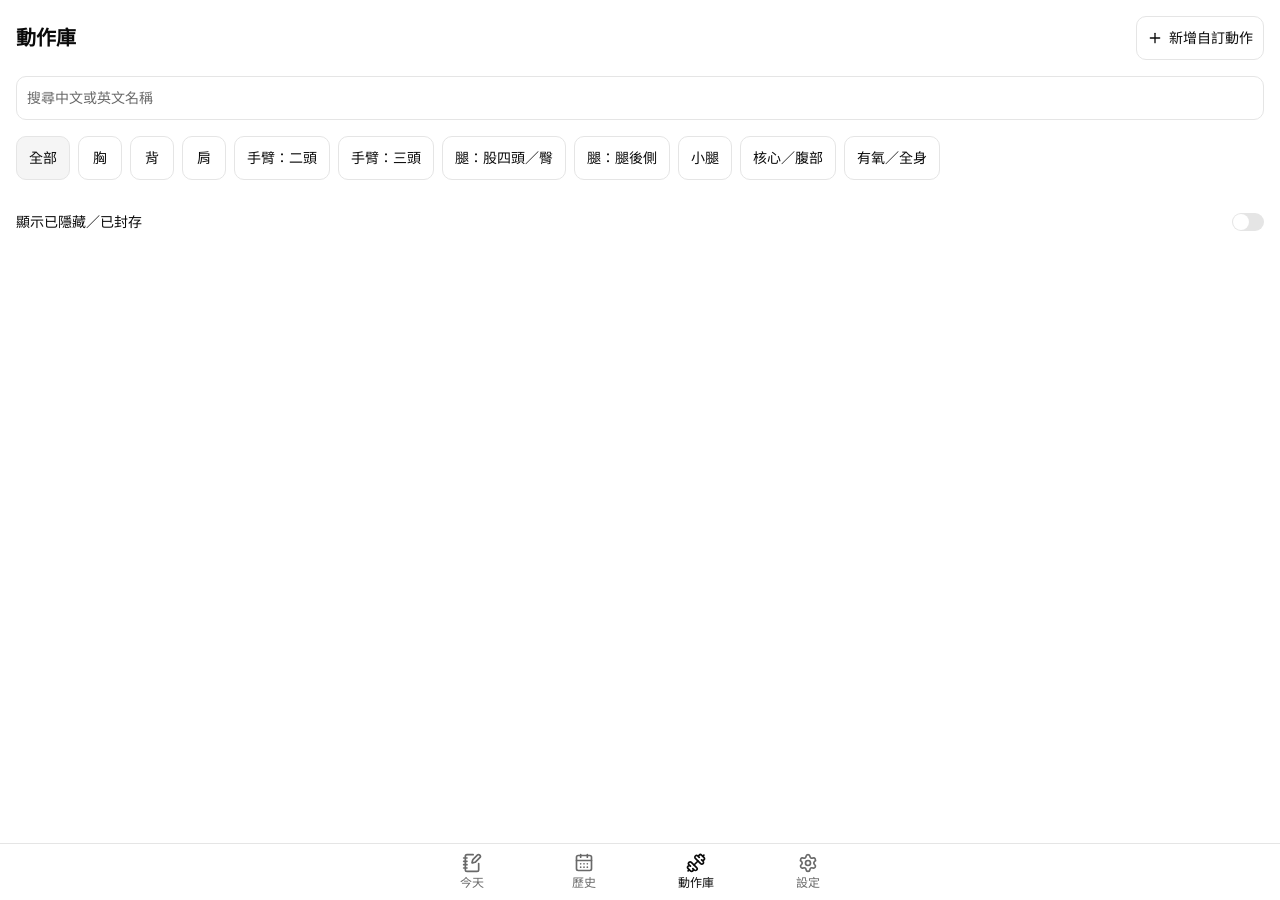
動作庫分頁：包含次要部位（US-49） › 選「全部」時沒有「包含次要部位」開關，選了分類才出現，預設關閉
Expected: the radio button labelled "全部" is shown, [16,136,70,180]
Expected: the switch labelled "包含次要部位" is not shown
Click the radio button labelled "手臂：三頭" at coordinates (386, 158), box [338,136,434,180]
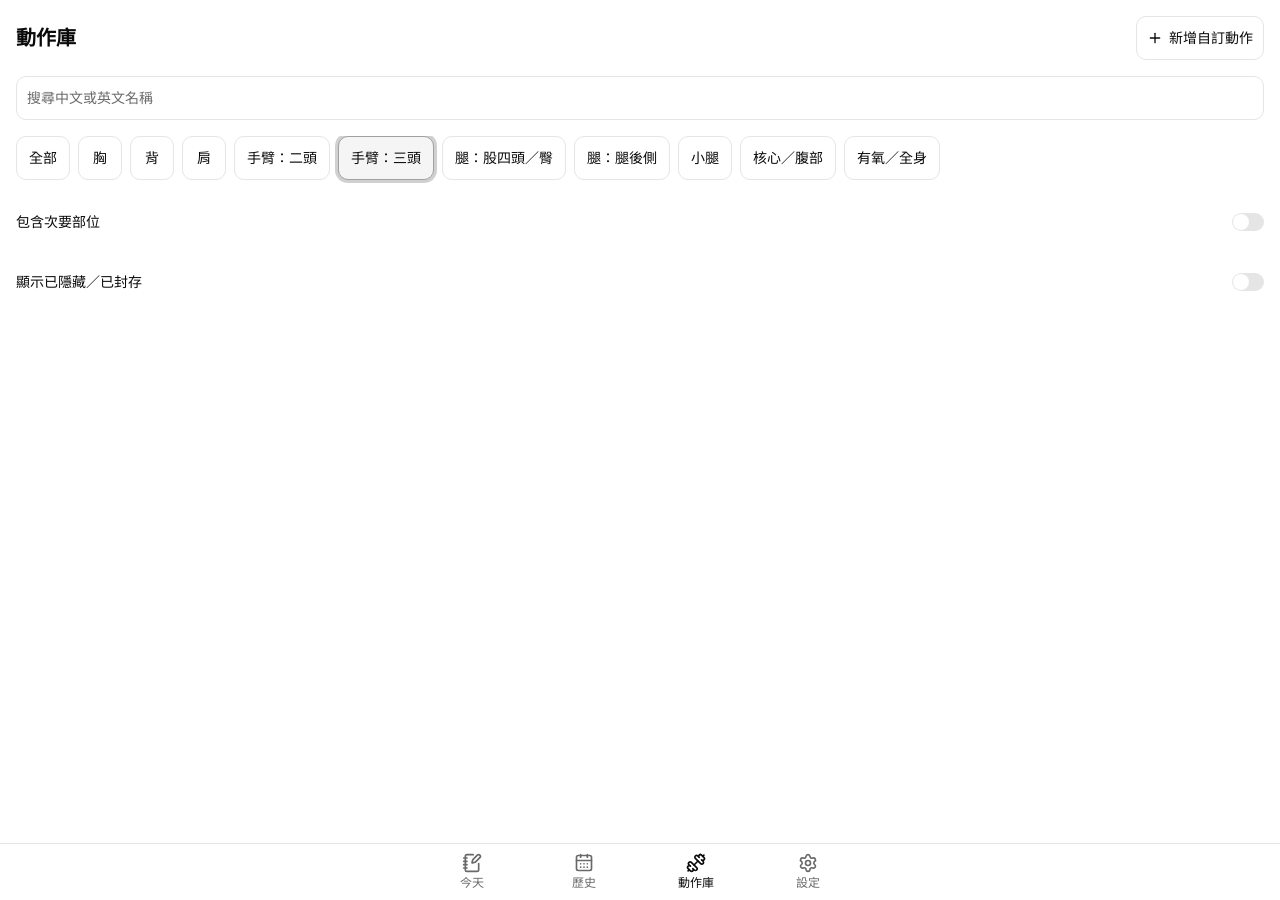
Expected: the switch named "包含次要部位" in the row of "包含次要部位" is not checked, [1232,213,1264,231]
Click the radio button labelled "全部" at coordinates (43, 158), box [16,136,70,180]
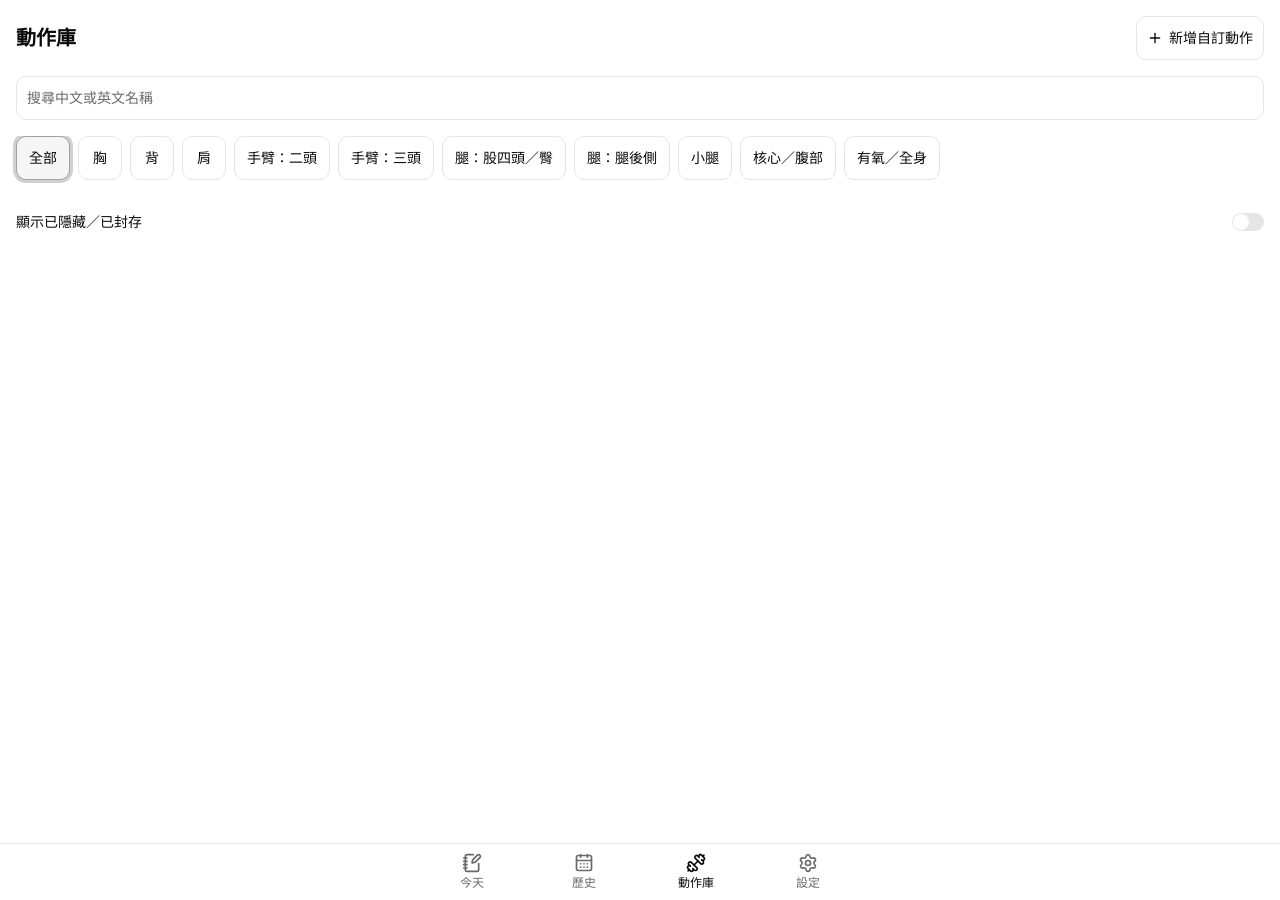
Result: the label "包含次要部位" is gone
